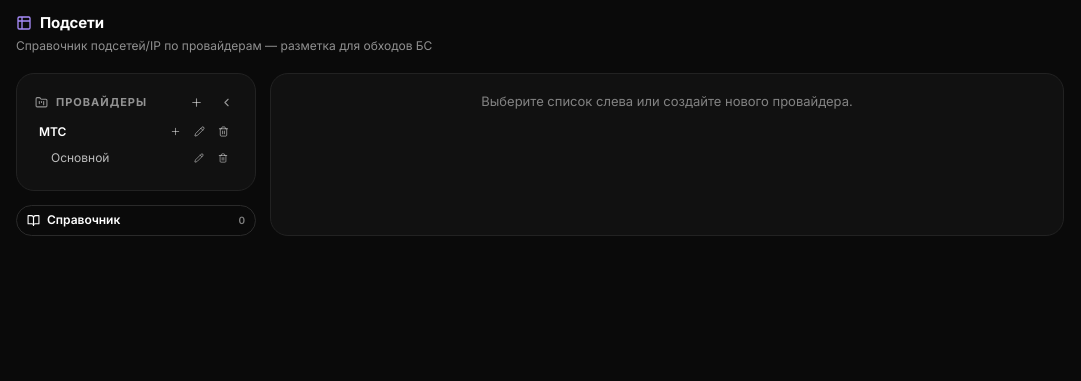
it: Subnets › панель скана: операторы подгружаются, чекбоксы строк появляются
Click the text "Основной". click: {"x": 80, "y": 157}
box: [51,150,109,164]
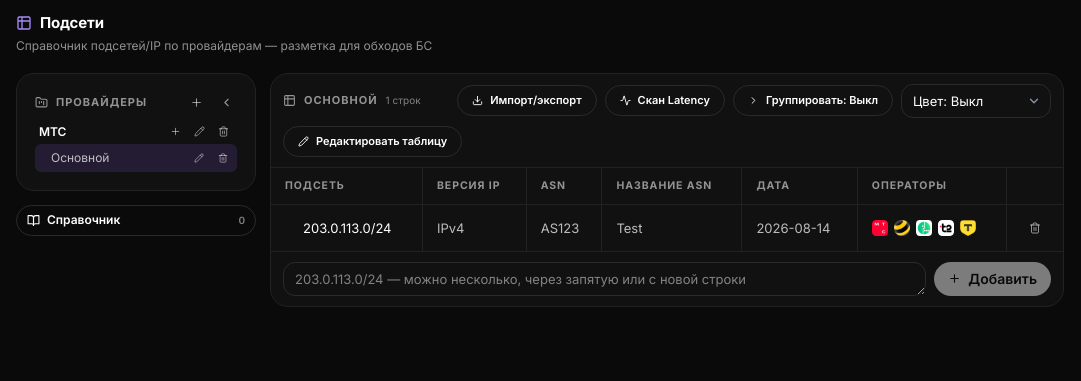
Click the button with test id "latency-scan-toggle". click: {"x": 665, "y": 100}
box: [605,85,725,116]
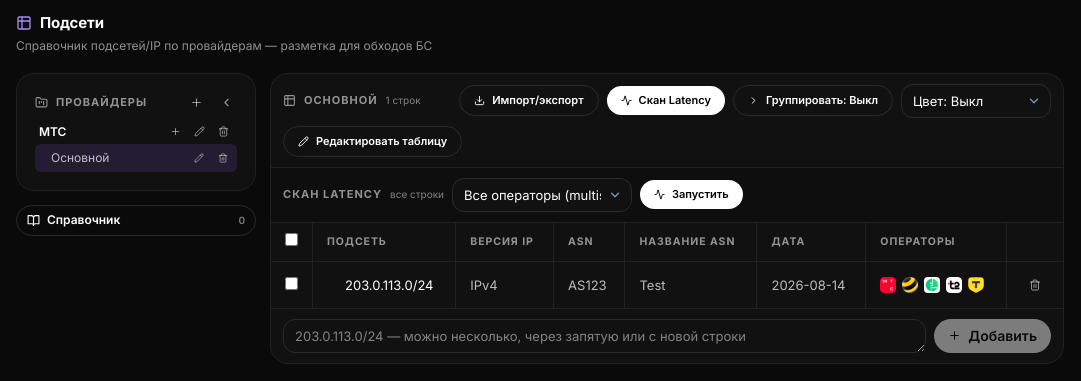
Result: the element with test id "latency-scan-panel" is shown at [271,168,1063,222]
Result: the checkbox with test id "latency-pick-all" is shown at [285,232,298,246]
Result: the checkbox with test id "latency-pick-r1" is shown at [285,276,298,290]
